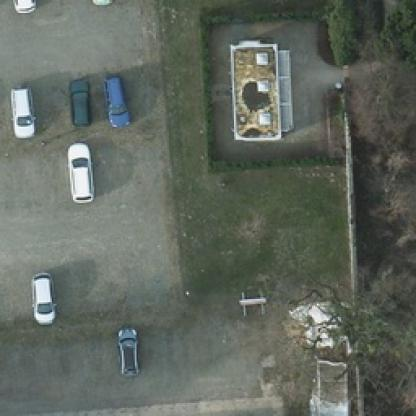car: (28, 256, 55, 322), (101, 72, 130, 128), (66, 141, 92, 202), (66, 70, 94, 122), (118, 323, 136, 374), (13, 86, 31, 135), (3, 0, 32, 13), (82, 0, 110, 2)
